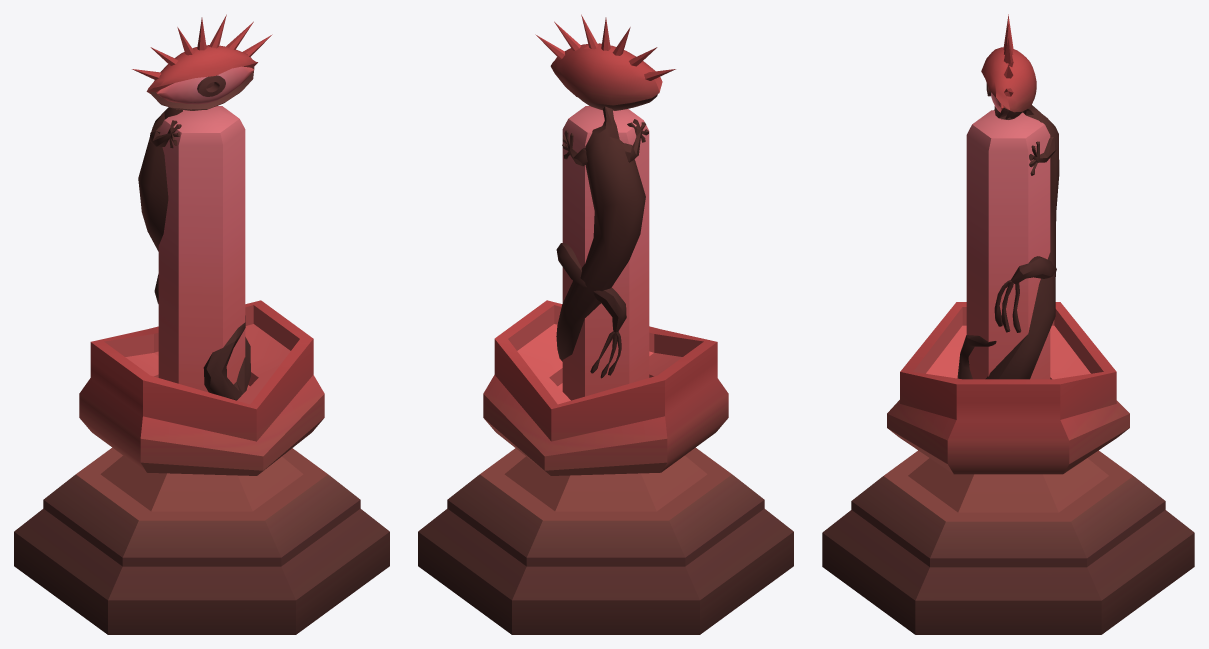
The model's file is MonolitoGuanesOk.fbx.
3 renders of one model, left to right at view 1: azimuth 30°, elevation 25°; view 2: azimuth 150°, elevation 25°; view 3: azimuth 270°, elevation 25°, orthographic.
Parts seen in each view (by area): view 1: MonolitoGuanes; view 2: MonolitoGuanes; view 3: MonolitoGuanes.
Part boxes in pixels (x1=…): MonolitoGuanes: x1=14, y1=14, x2=389, y2=634; MonolitoGuanes: x1=418, y1=14, x2=793, y2=634; MonolitoGuanes: x1=822, y1=14, x2=1194, y2=634.
Bounding box in the file's own units: 866 × 1614 × 1000.
Materials: 1 (1 with a texture image).
